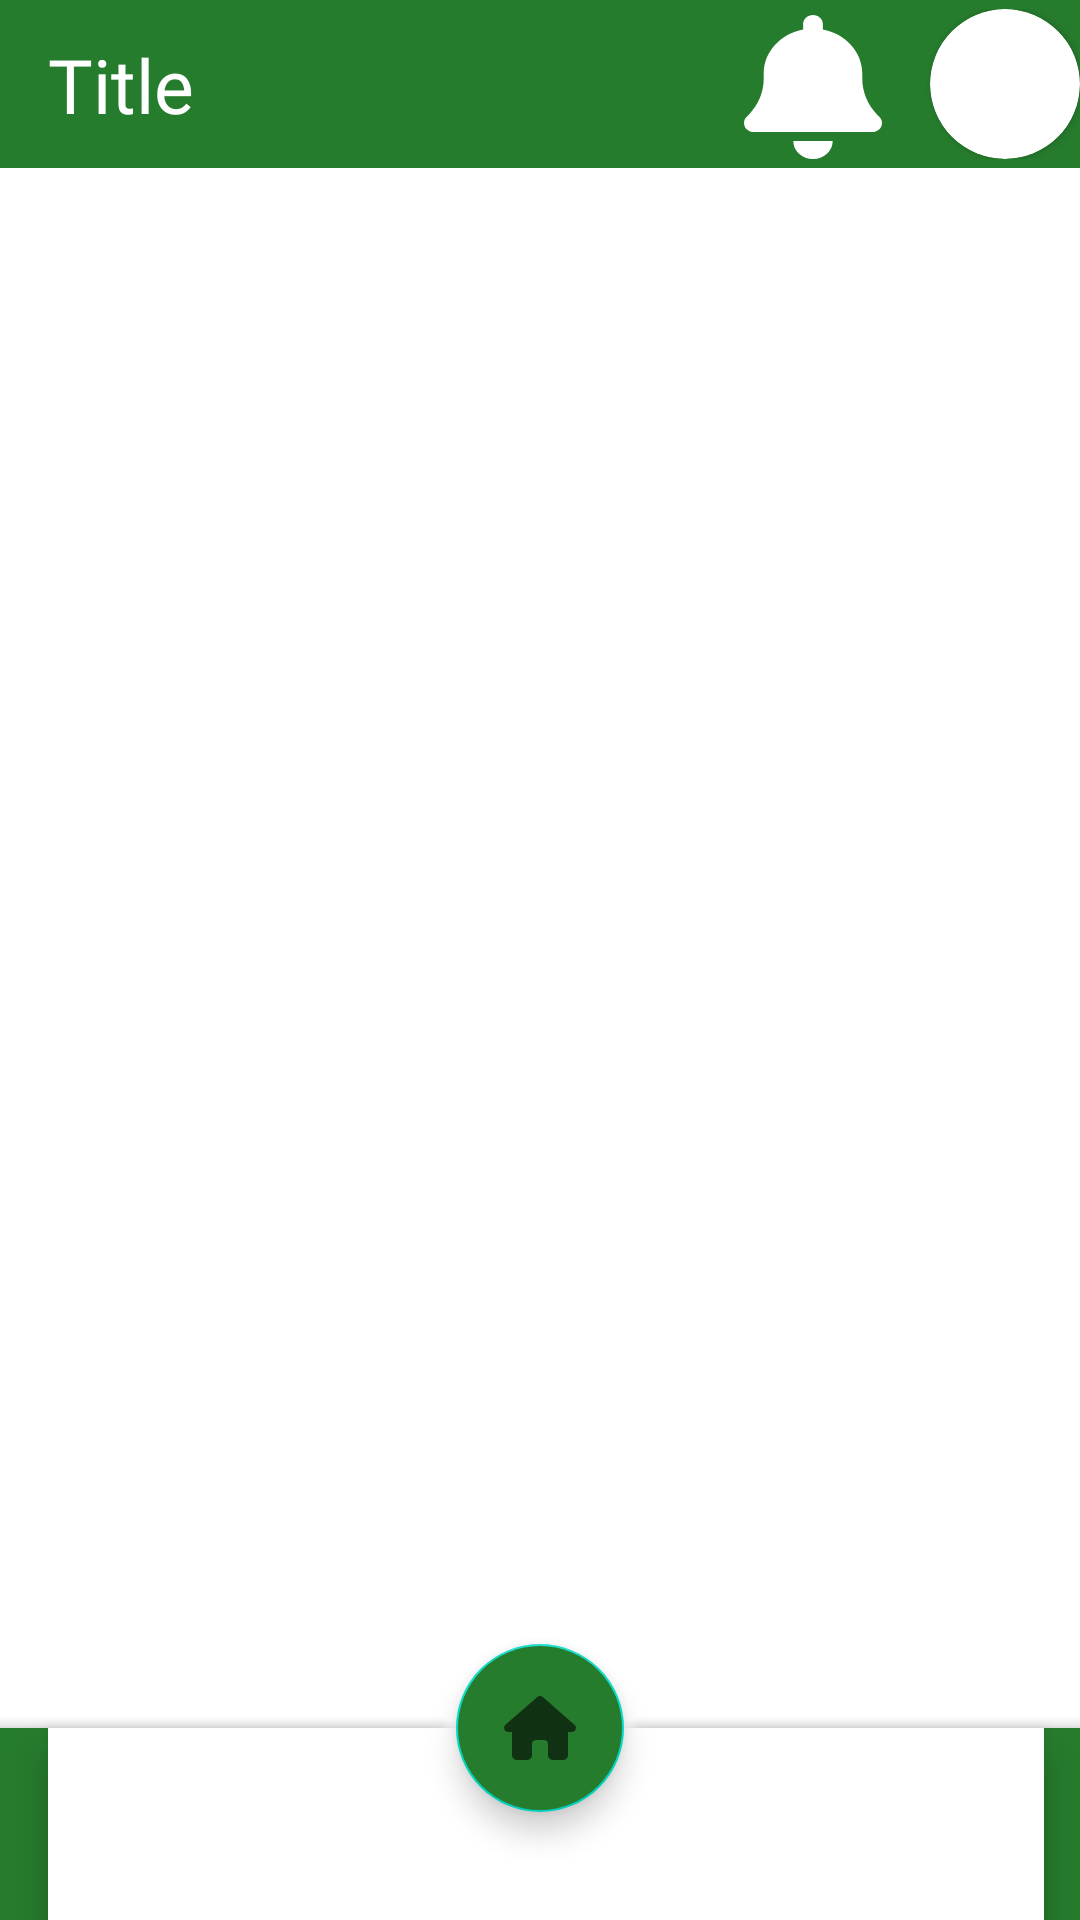

Where to tap for icons on this 1080px x 1920px app screen, as (x=x, y=y):
Bell Icon: (x=813, y=87)
house: (x=540, y=1728)
